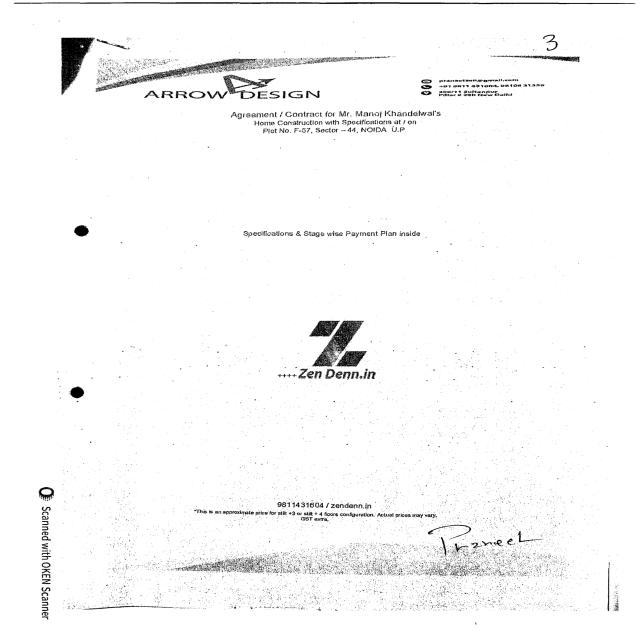page-number: (474, 22, 640, 53)
